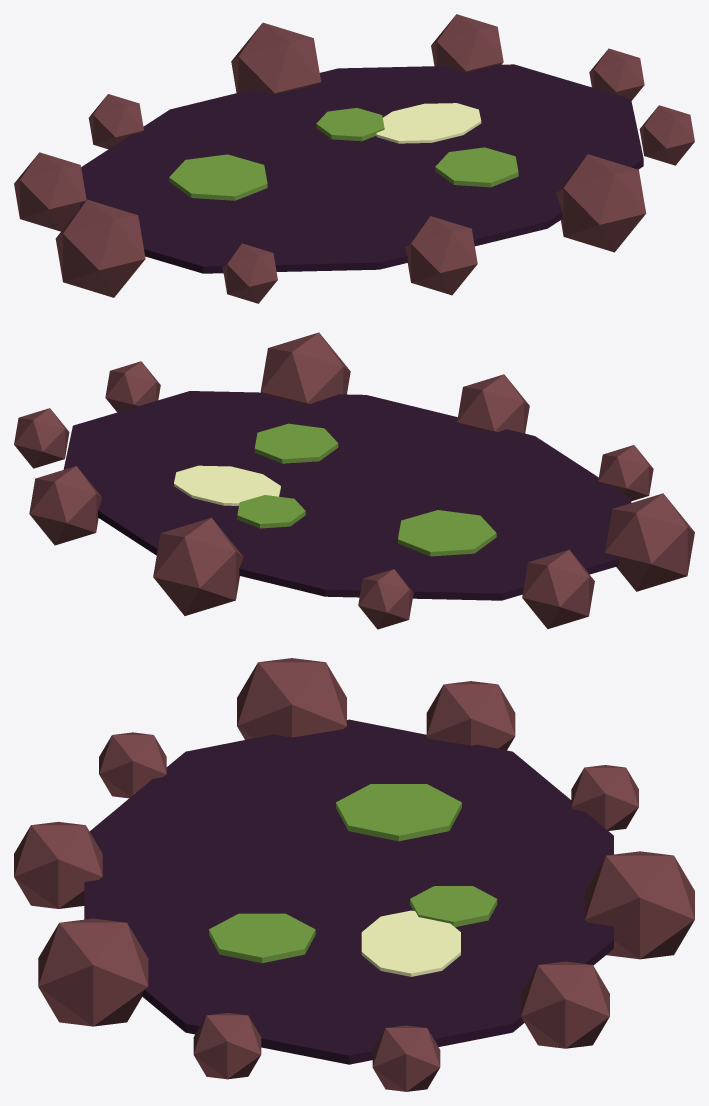
File: pond.glb
The picture shows the model from 3 angles, top to bottom: view 1: azimuth 30°, elevation 25°; view 2: azimuth 150°, elevation 25°; view 3: azimuth 270°, elevation 25°; orthographic projection. The views are drawn at different scales.
Visible parts, largest first — view 1: Water, Stone5, Stone8, Stone2, Stone7, Stone4, Pad0, Moon, Stone1, Pad1, Stone6, Stone9 (+3 smaller); view 2: Water, Stone2, Stone5, Stone8, Stone4, Stone1, Pad0, Stone7, Moon, Pad1, Stone0, Stone3 (+3 smaller); view 3: Water, Stone8, Stone2, Stone5, Stone1, Stone7, Pad0, Moon, Stone4, Pad1, Stone0, Stone9 (+3 smaller).
Part boxes in pixels (x1,y1,x2,y2): Water: [80, 64, 643, 273]; Stone5: [55, 199, 145, 297]; Stone8: [556, 154, 646, 252]; Stone2: [231, 22, 320, 94]; Stone7: [405, 216, 477, 295]; Stone4: [14, 152, 86, 231]; Pad0: [169, 154, 267, 200]; Moon: [376, 103, 481, 143]; Stone1: [431, 14, 503, 72]; Pad1: [435, 147, 518, 187]; Stone6: [222, 243, 277, 303]; Stone9: [639, 105, 694, 165]; Water: [63, 391, 631, 600]; Stone2: [153, 517, 243, 615]; Stone5: [605, 493, 694, 591]; Stone8: [260, 332, 350, 404]; Stone4: [522, 549, 594, 628]; Stone1: [29, 466, 101, 545]; Pad0: [398, 510, 496, 556]; Stone7: [457, 374, 529, 433]; Moon: [174, 465, 280, 505]; Pad1: [254, 423, 338, 463]; Stone0: [14, 408, 69, 468]; Stone3: [358, 569, 413, 629]; Water: [84, 719, 613, 1064]; Stone8: [38, 918, 148, 1026]; Stone2: [585, 851, 694, 959]; Stone5: [237, 658, 346, 739]; Stone1: [521, 961, 609, 1048]; Stone7: [14, 821, 102, 908]; Pad0: [336, 784, 461, 841]; Moon: [361, 910, 460, 976]; Stone4: [426, 681, 515, 750]; Pad1: [209, 913, 315, 963]; Stone0: [372, 1025, 440, 1091]; Stone9: [193, 1013, 261, 1079].
Size of the model in its own units: 3.66 by 0.4423 by 2.74.
